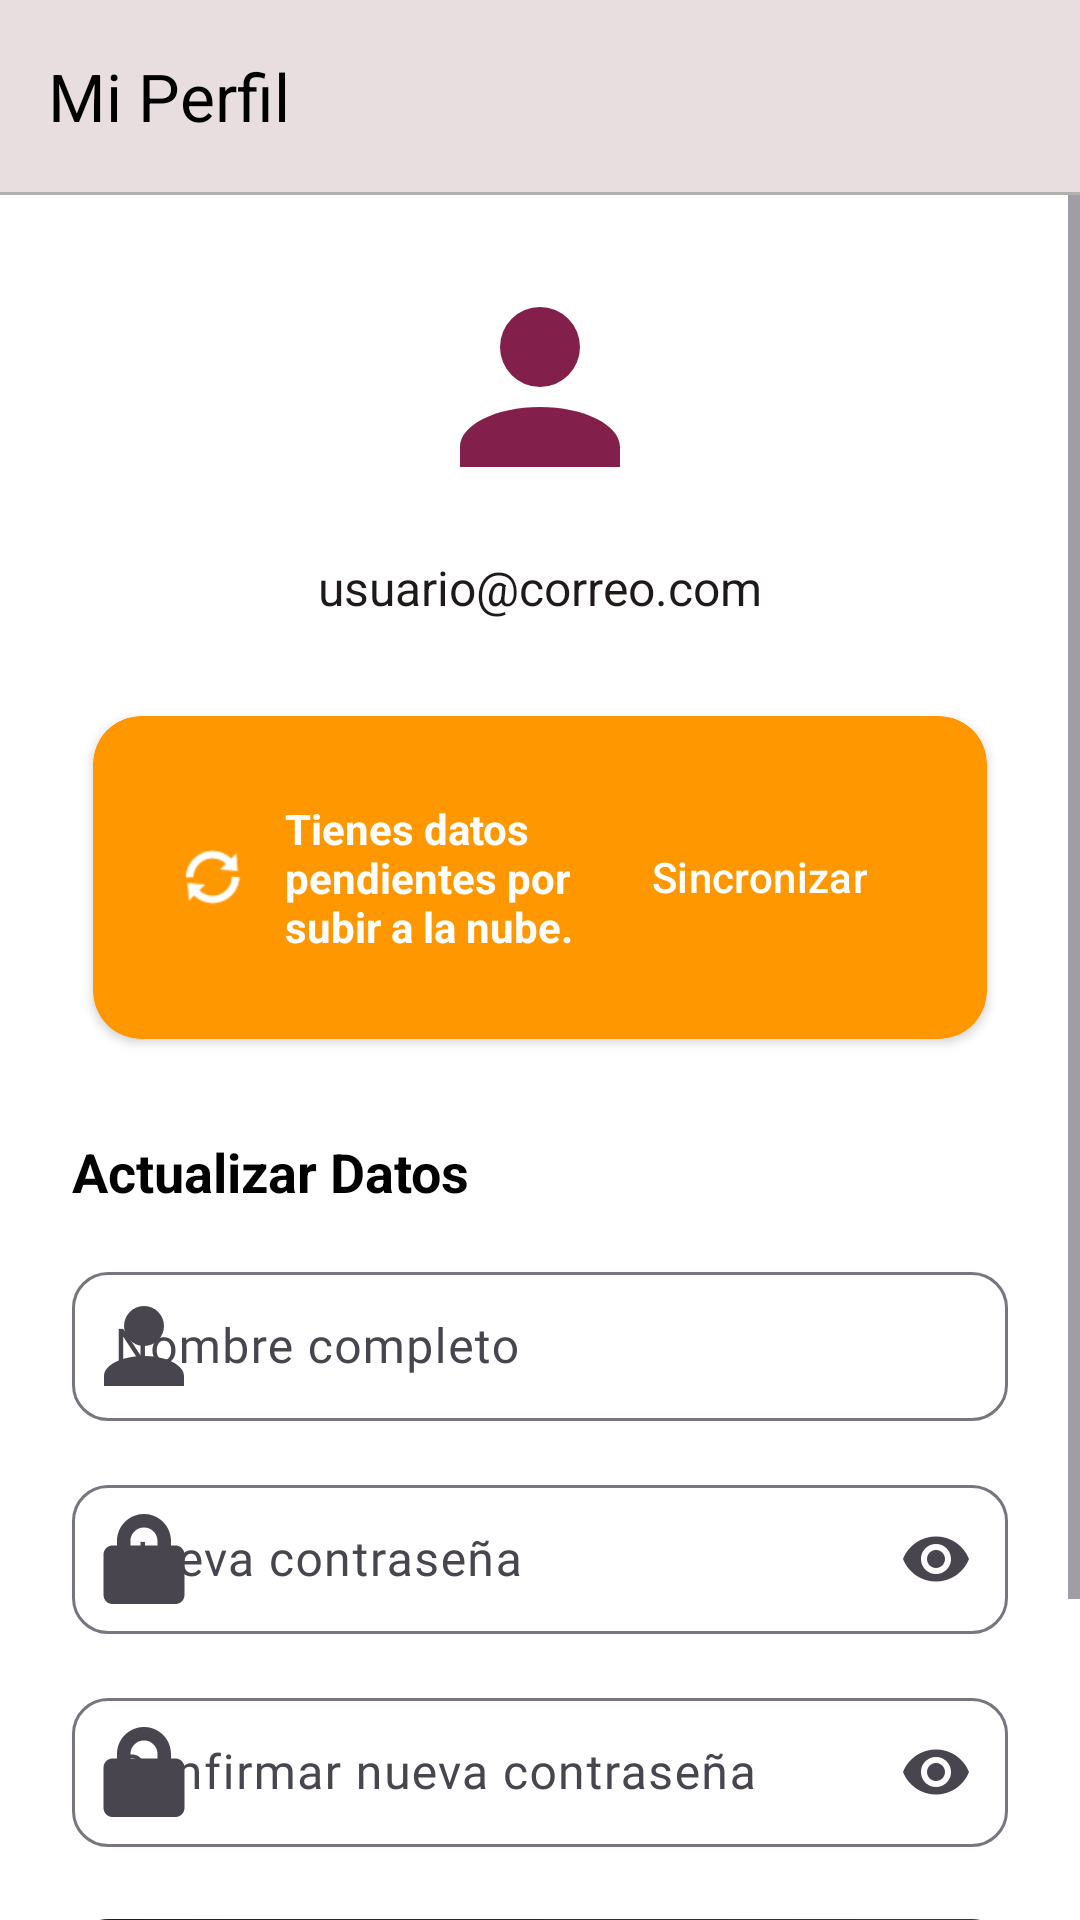

Named icons in this screenshot (1080 x 1920) and their centers, (x,y):
person: (540,387)
popup sync: (212,877)
